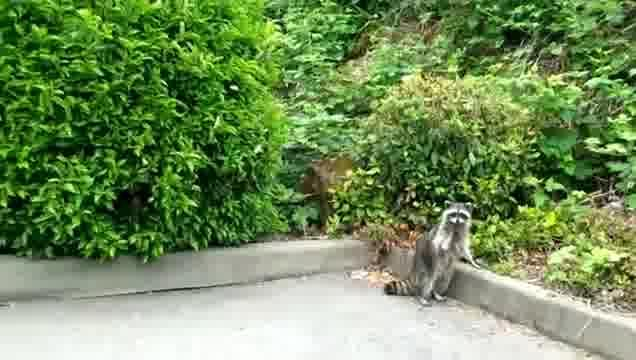raccoon: (380, 204, 487, 309)
